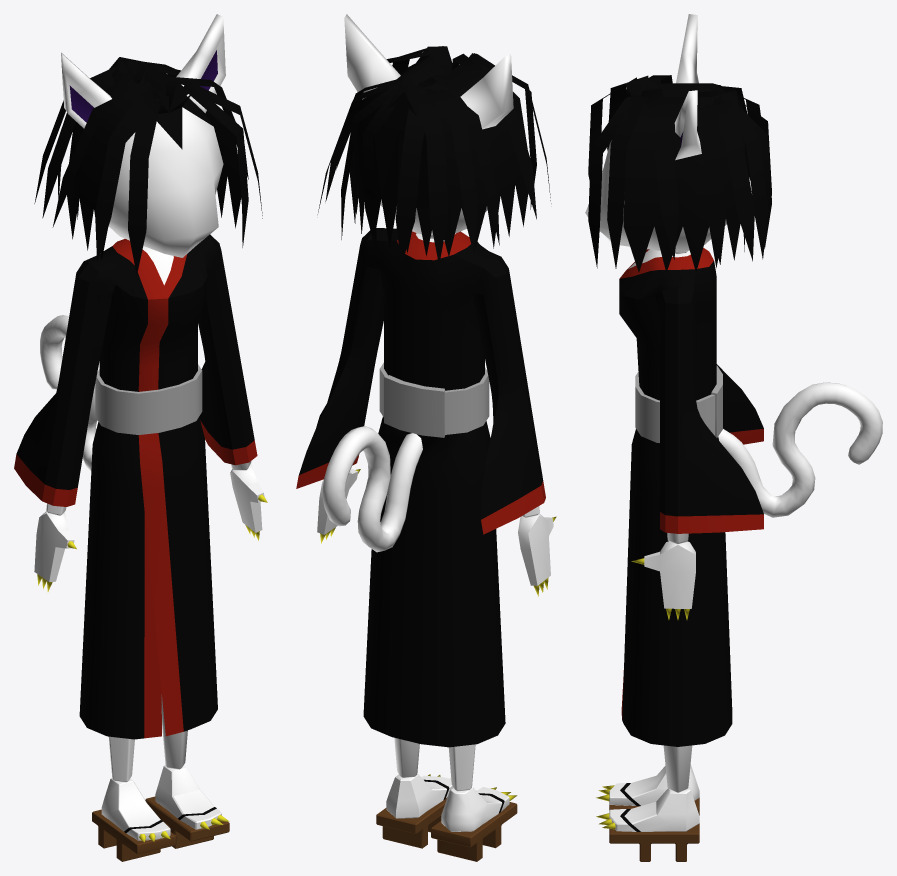
The model's file is SM_KabukiCat.fbx.
3 renders of one model, left to right at view 1: azimuth 30°, elevation 25°; view 2: azimuth 150°, elevation 25°; view 3: azimuth 270°, elevation 25°, orthographic. The views are drawn at different scales.
Visible parts, largest first — view 1: UpperTorso, Head, FootR, FootL, HandR, LowerTorso, HandL, LowerLegR, LowerLegL; view 2: UpperTorso, Head, LowerTorso, FootR, FootL, HandR, LowerLegR, LowerLegL, HandL; view 3: UpperTorso, Head, LowerTorso, FootL, HandL, FootR, LowerLegL.
Part boxes in pixels (x1,y1,x2,y2): UpperTorso: (14,234,257,739); Head: (34,14,262,275); FootR: (92,778,176,861); FootL: (145,765,229,848); HandR: (34,511,76,591); LowerTorso: (40,315,99,470); HandL: (230,463,267,540); LowerLegR: (108,736,134,782); LowerLegL: (161,694,187,769); UpperTorso: (296,228,545,747); Head: (317,14,551,265); LowerTorso: (322,426,422,552); FootR: (431,787,517,861); FootL: (376,774,453,848); HandR: (518,513,556,596); LowerLegR: (448,744,475,791); LowerLegL: (394,737,419,777); HandL: (317,468,360,543); UpperTorso: (619,248,763,746); Head: (585,14,771,272); LowerTorso: (718,382,882,517); FootL: (596,788,699,861); HandL: (631,541,695,619); FootR: (596,765,699,815); LowerLegL: (663,745,692,792).
Size of the model in its own units: 54.26 by 192 by 65.87.
